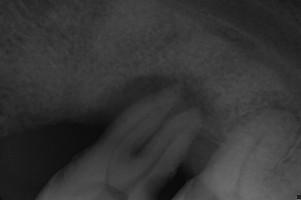Dental Caries: (70, 72, 217, 159)
